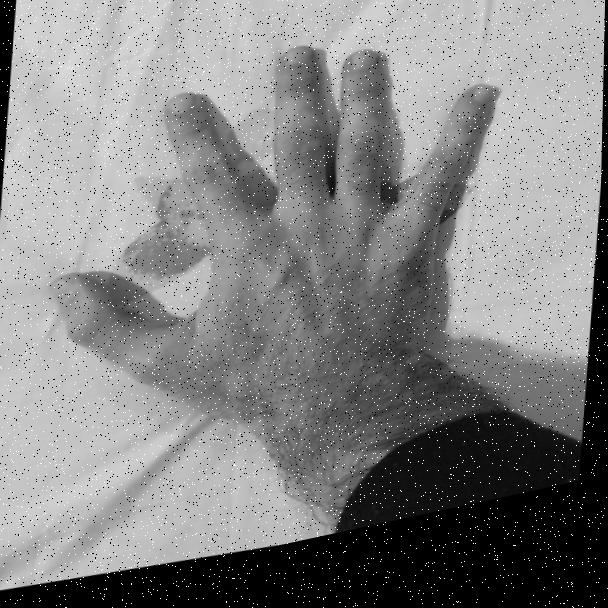five: (47, 3, 522, 474)
